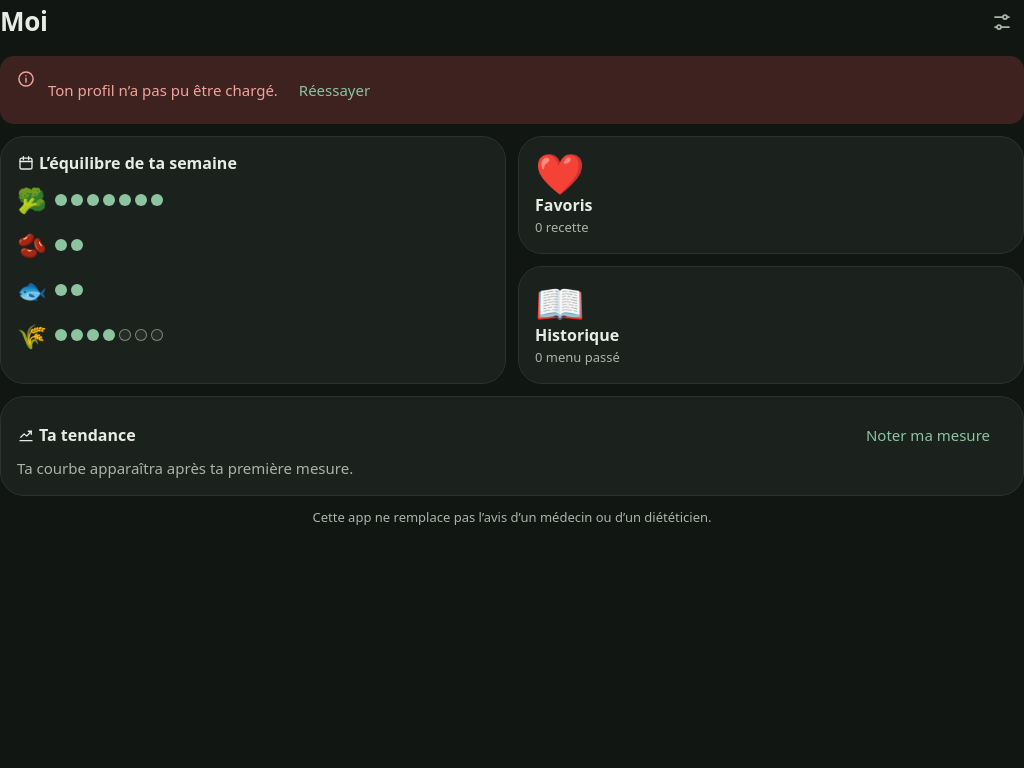
Test: <MePage /> › erreur de chargement : bandeau médical, message doux et « Mes données »
This screenshot has width=1024, height=768.
Expected: the text "Ton profil n’a pas pu être chargé. Réessayer" is shown, [48,68,387,112]
Expected: the text "Cette app ne remplace pas l’avis d’un médecin ou d’un diététicien." is shown, [312,508,712,526]
Click the button named "Réglages" at [1002, 22], box [980,0,1023,44]
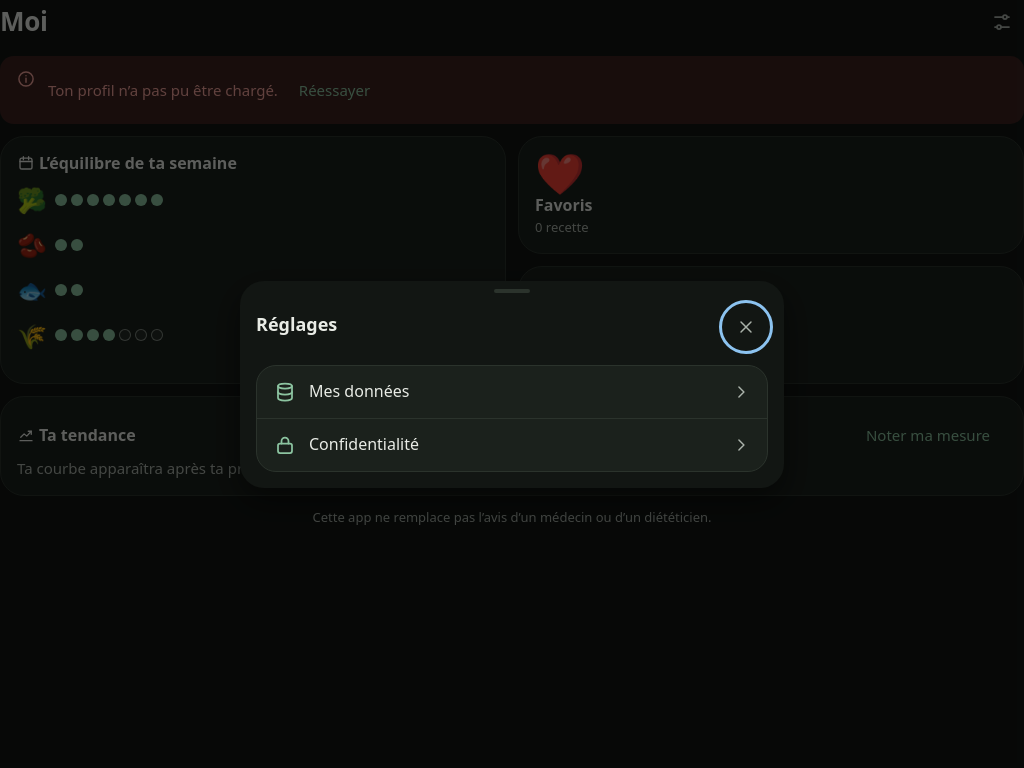
Now the button "Mes données" is shown, box [257,366,767,418]
